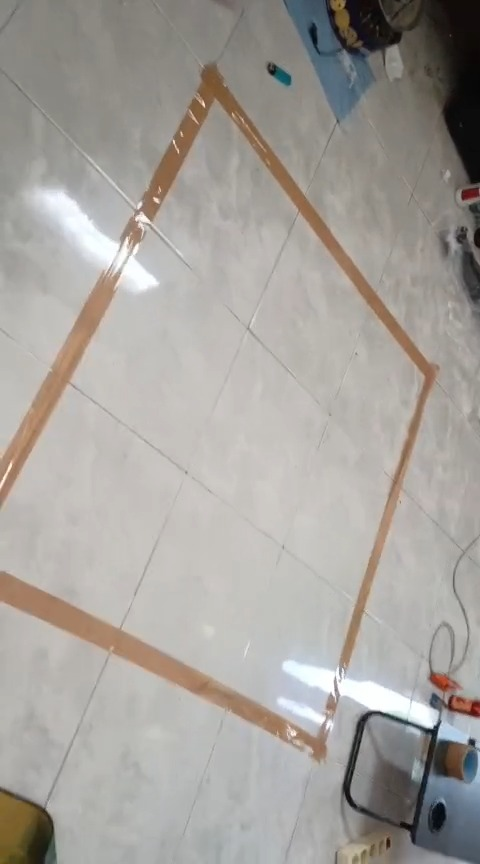floor marking: (0, 65, 437, 758)
